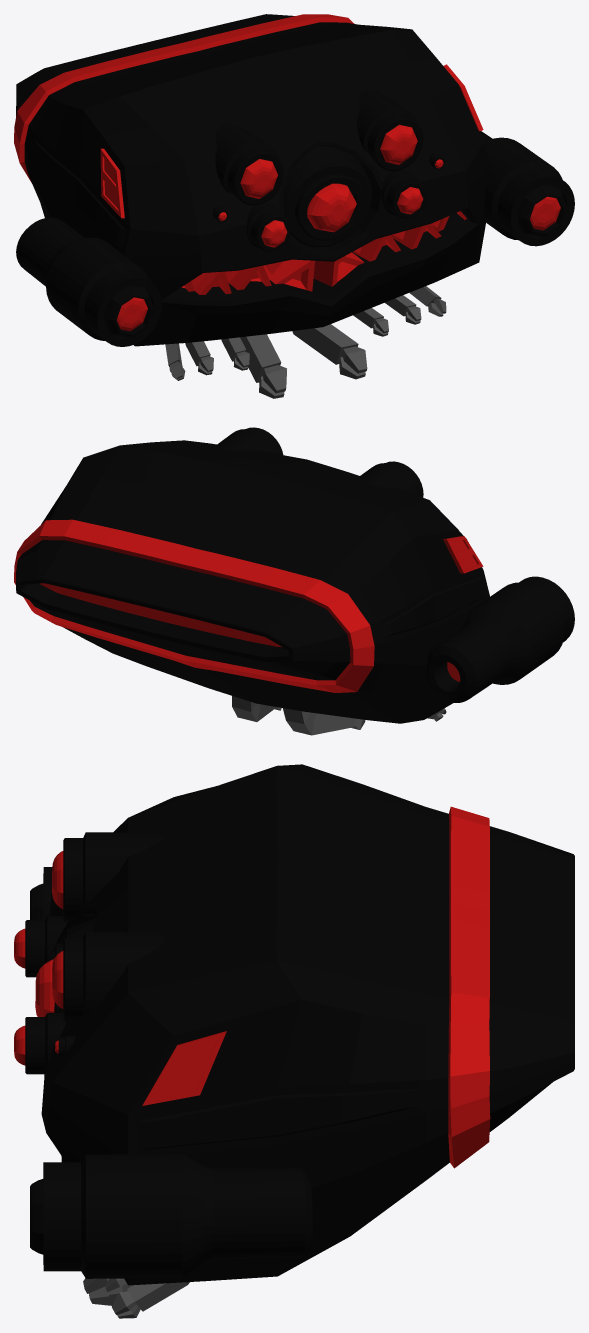
Rendered from sentinel.fbx.
The picture shows the model from 3 angles, top to bottom: view 1: azimuth 30°, elevation 25°; view 2: azimuth 150°, elevation 25°; view 3: azimuth 270°, elevation 25°; orthographic projection. The views are drawn at different scales.
Visible parts, largest first — view 1: Sentinel; view 2: Sentinel; view 3: Sentinel.
Part boxes in pixels (bbox=[...]): Sentinel: bbox=[14, 14, 574, 398]; Sentinel: bbox=[14, 427, 574, 735]; Sentinel: bbox=[14, 764, 574, 1318].
Size of the model in its own units: 83.37 by 46.63 by 56.83.
